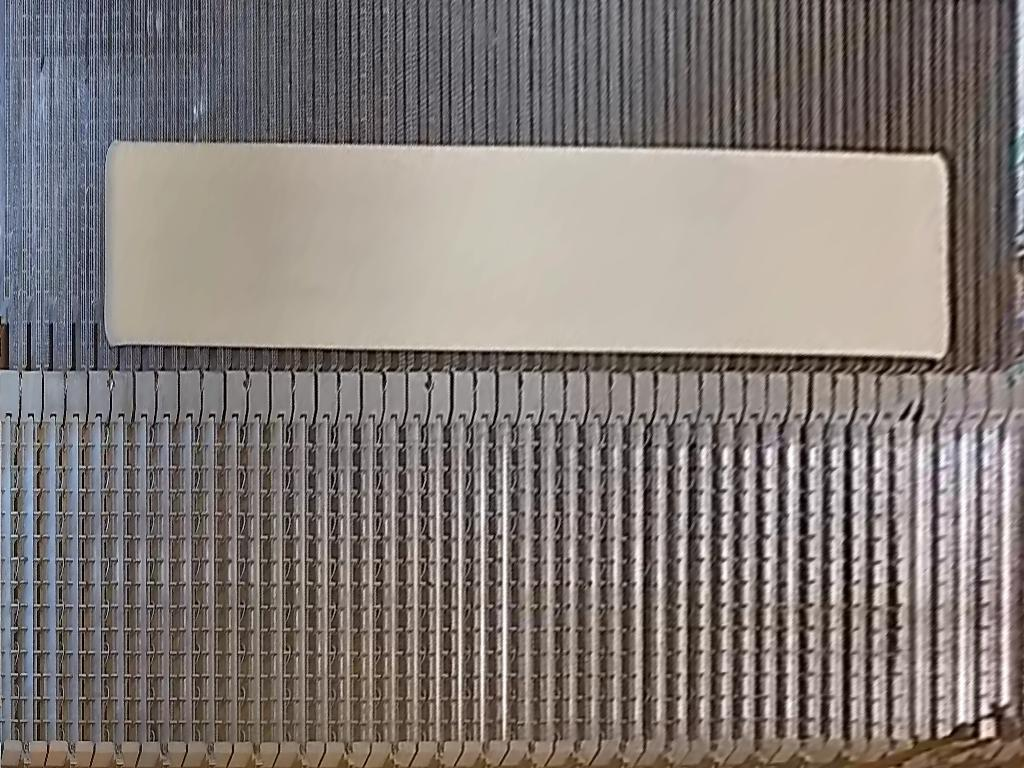steel: (102, 138, 950, 358)
